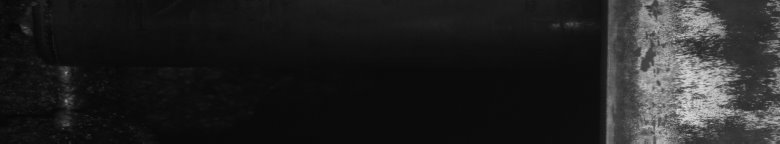kb: (634, 4, 776, 136)
